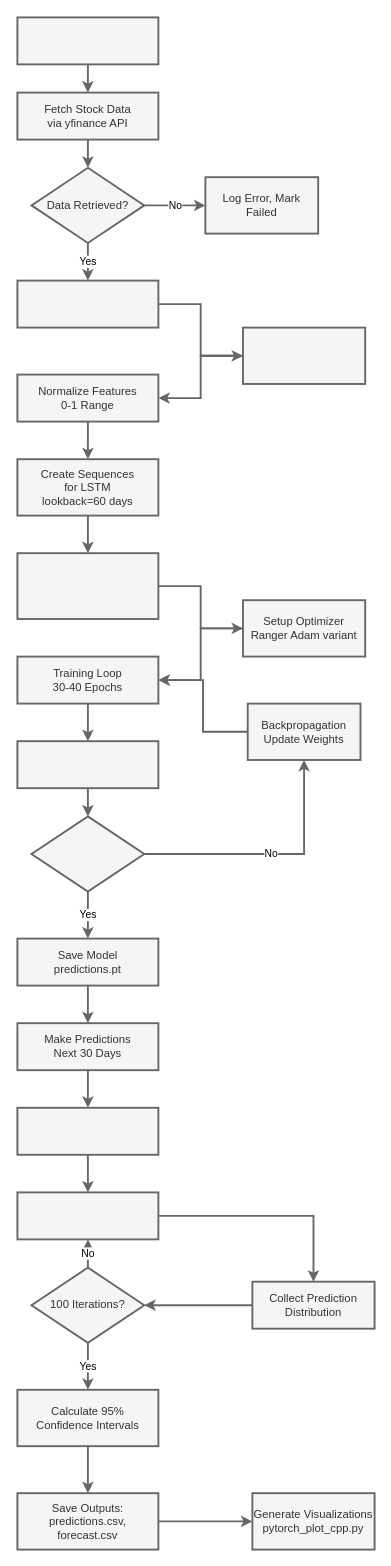
The diagram is 391 pixels wide and 1566 high, and some of its shapes have lost their labels. The shapes that lost their labels are listed below. From the top down, each one's centre as x and y in pixels, then its label:
At point (87, 40): "pytorch_train_cpp.py Starts Execution".
At point (87, 303): "Calculate Technical Indicators".
At point (304, 355): "SMA-14, RSI-14, MACD, Bollinger Bands, Volume Ratios".
At point (87, 585): "Initialize BiLSTM Model 4 layers × 500 units Dropout: 0.6 → 0.1".
At point (87, 764): "Calculate Loss MSE Track RMSE, MAE".
At point (87, 853): "Loss Converging?".
At point (87, 1130): "Monte Carlo Dropout 100 iterations".
At point (87, 1215): "Run Forward Pass with Dropout ON".
